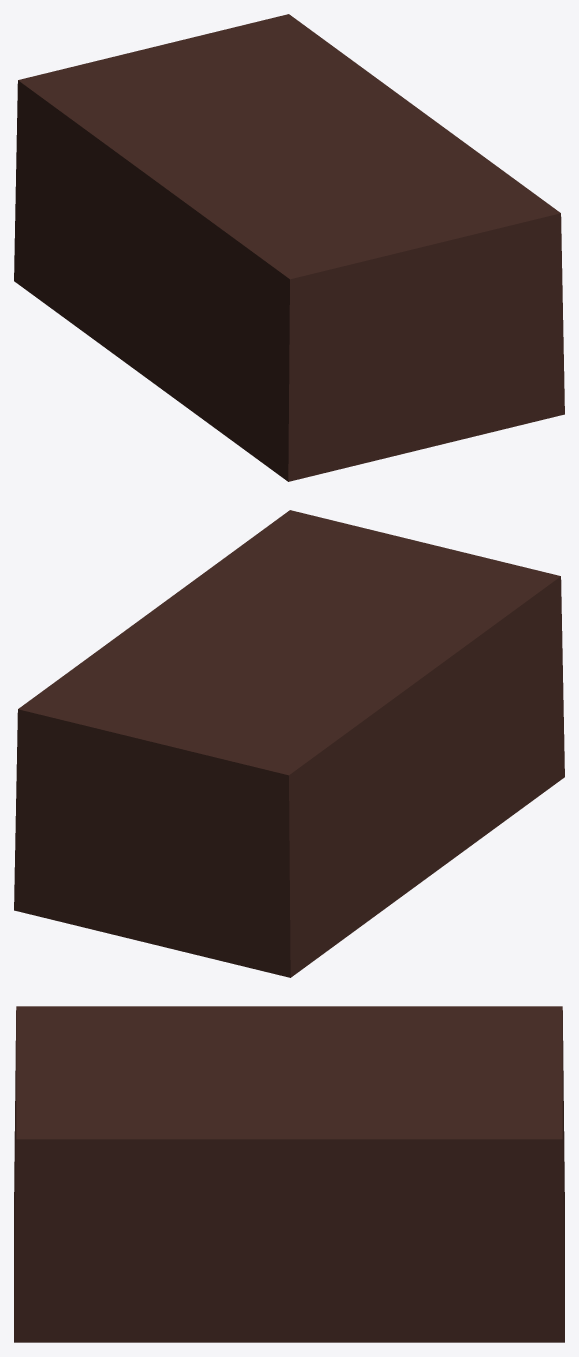
3 views of the same model, one above another, from view 1: azimuth 30°, elevation 25°; view 2: azimuth 150°, elevation 25°; view 3: azimuth 270°, elevation 25° (orthographic).
Parts seen in each view (by area): view 1: blueprint.065; view 2: blueprint.065; view 3: blueprint.065.
Boxes of the visible parts, x1,y1,x2,y2 form: blueprint.065: [14, 14, 564, 481]; blueprint.065: [14, 510, 564, 977]; blueprint.065: [14, 1006, 564, 1342].
Size of the model in its own units: 98.62 by 68.51 by 169.
